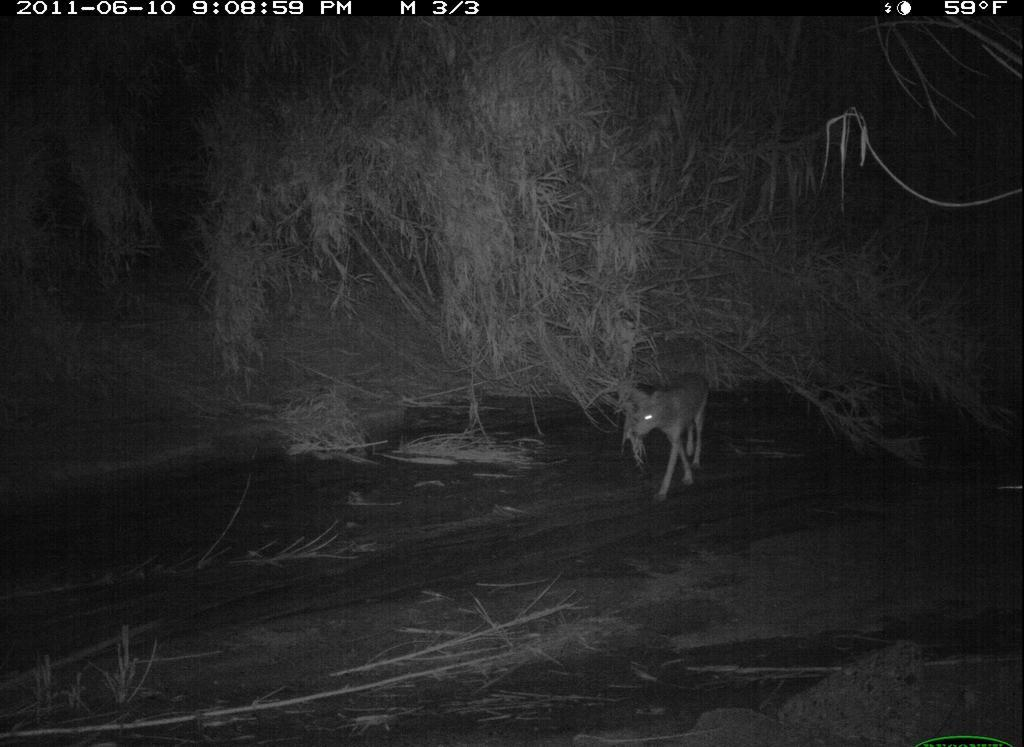coyote: (621, 370, 713, 506)
